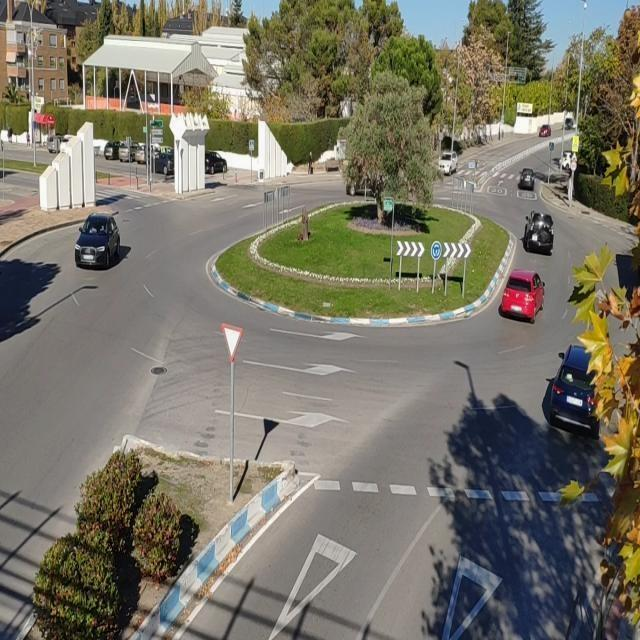Car: (74, 210, 119, 270), (500, 268, 546, 320), (524, 210, 553, 256), (518, 166, 535, 190)
